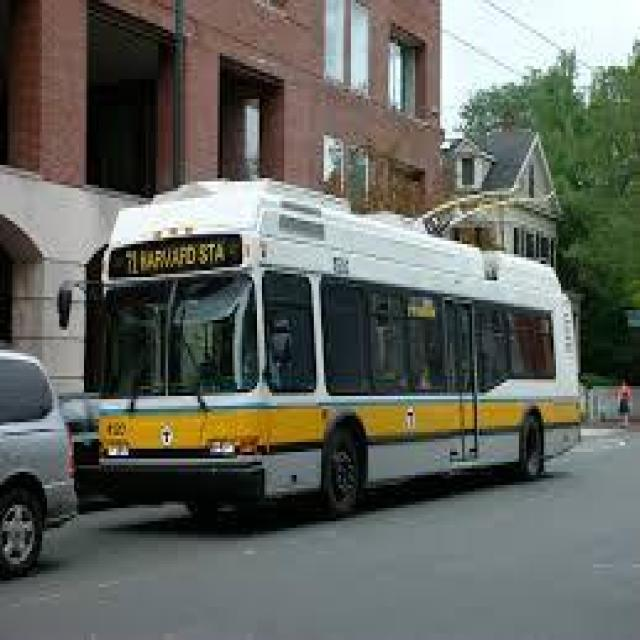bus: (87, 181, 584, 513)
